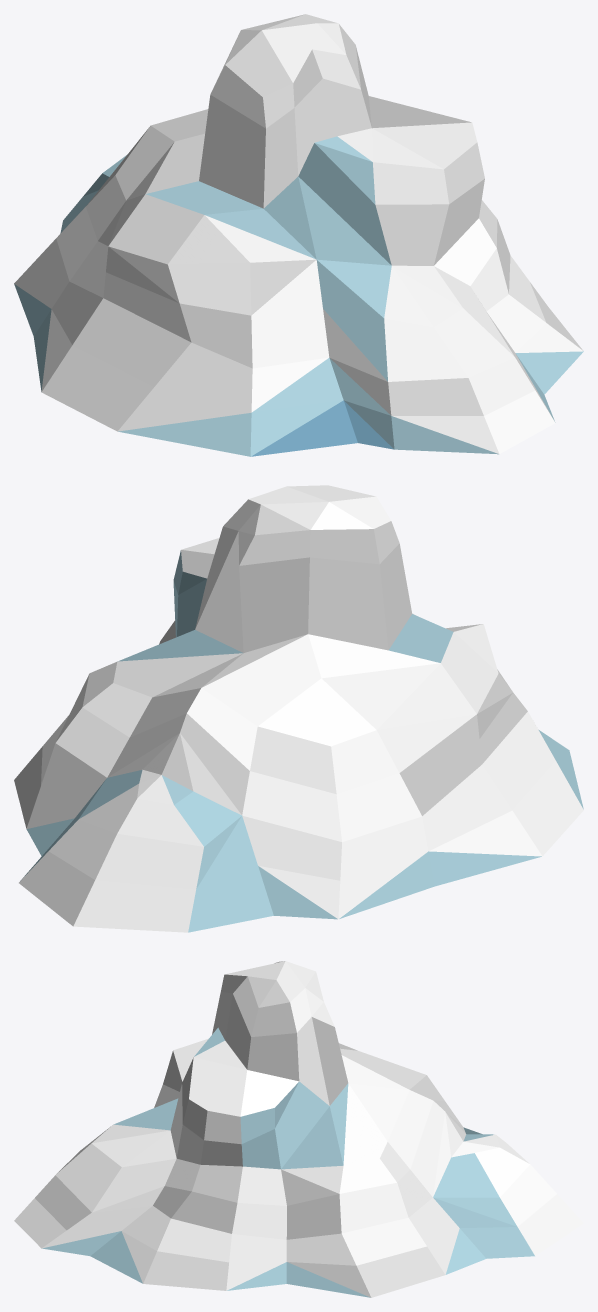
The model's file is terrainPeak1.fbx.
The picture shows the model from 3 angles, top to bottom: view 1: azimuth 30°, elevation 25°; view 2: azimuth 150°, elevation 25°; view 3: azimuth 270°, elevation 25°; orthographic projection. The views are drawn at different scales.
Visible parts, largest first — view 1: bottom, top; view 2: bottom, top; view 3: bottom, top.
Part boxes in pixels (<box>): bottom: <box>14,45,583,456</box>; top: <box>83,14,514,381</box>; bottom: <box>14,526,583,932</box>; top: <box>49,485,512,889</box>; bottom: <box>14,991,583,1297</box>; top: <box>55,961,556,1226</box>.
Bounding box in the file's own units: 442 × 268 × 585.
Materials: 2 (2 with a texture image).
